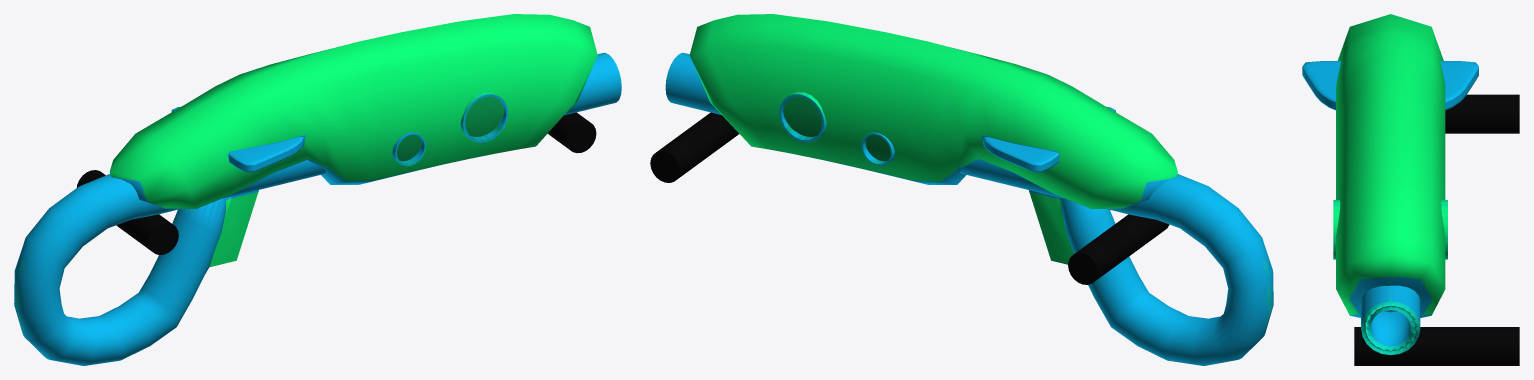
File: SM_Wall_Gun_1.fbx
3 renders of one model, left to right at view 1: azimuth 30°, elevation 25°; view 2: azimuth 150°, elevation 25°; view 3: azimuth 270°, elevation 25°, orthographic. The views are drawn at different scales.
Visible parts, largest first — view 1: pCylinder2; view 2: pCylinder2; view 3: pCylinder2.
Part boxes in pixels (box(x1,y1,x2,y2)): pCylinder2: box(14, 14, 621, 365); pCylinder2: box(650, 14, 1273, 365); pCylinder2: box(1302, 14, 1519, 365).
Bounding box in the file's own units: 66.8 × 27.8 × 18.66.
2 materials, 1 textured.
